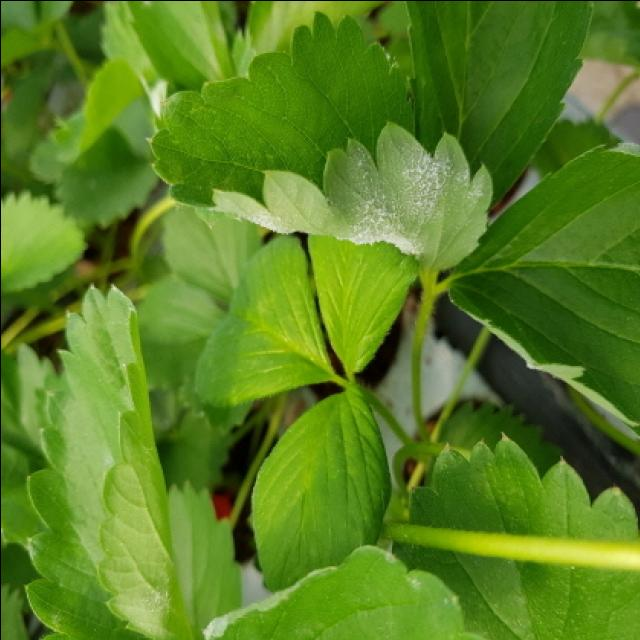Powdery Mildew Leaf: (147, 5, 493, 276), (21, 281, 194, 640), (200, 542, 470, 640)
